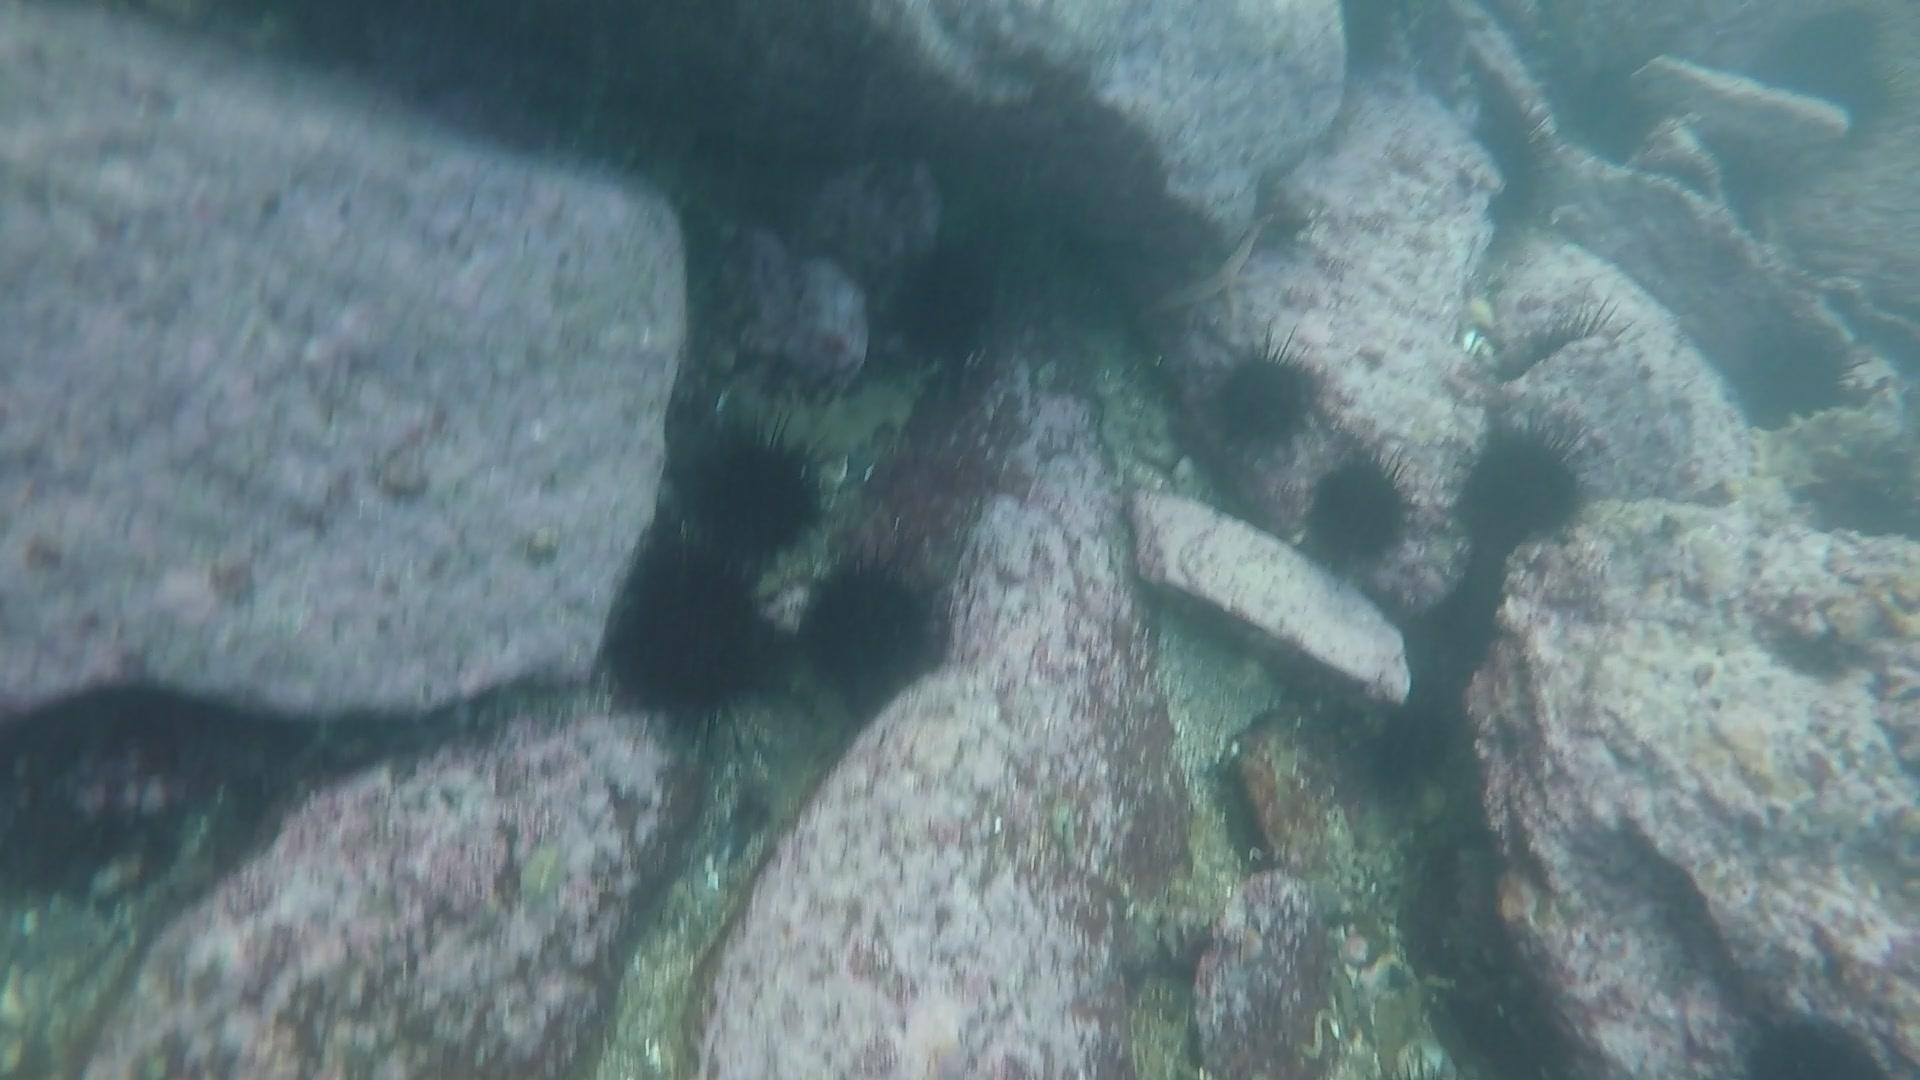echinus: (593, 535, 790, 736), (675, 409, 835, 566), (793, 547, 948, 702), (1448, 411, 1600, 560), (1296, 446, 1422, 576), (881, 233, 1006, 364), (1726, 316, 1862, 436), (1201, 331, 1329, 458), (1482, 295, 1643, 394), (1350, 687, 1466, 804), (1729, 1004, 1900, 1077)
holothurian: (750, 351, 945, 469)
